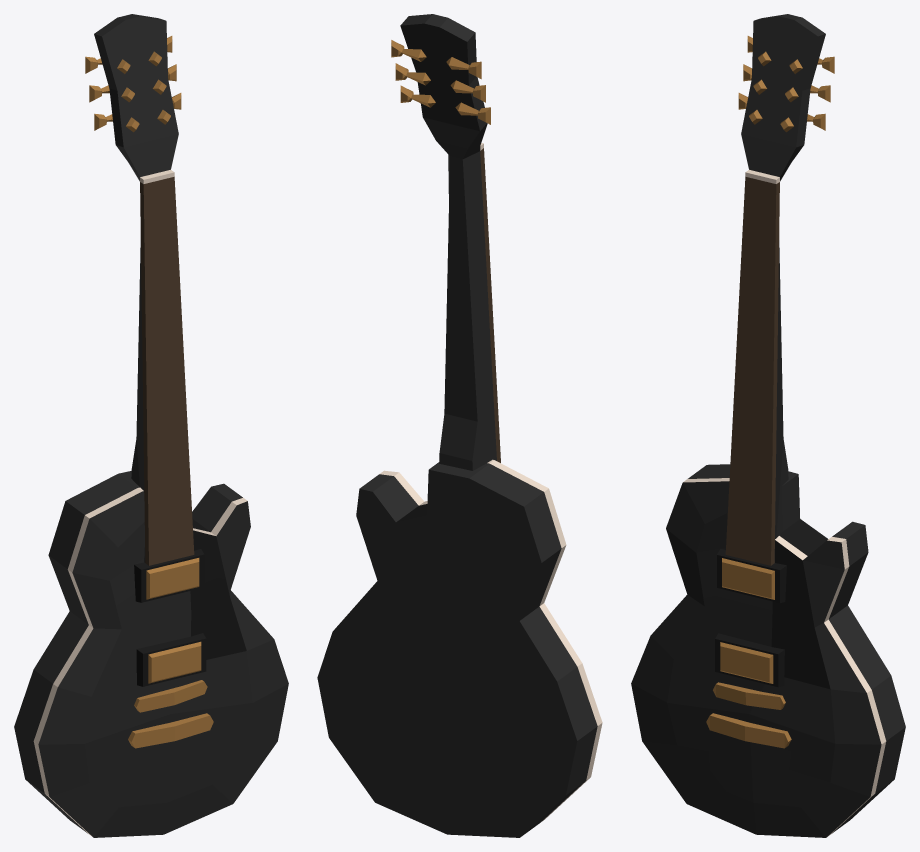
The model's file is music_guitar-electric-rock.fbx.
The picture shows the model from 3 angles, left to right: view 1: azimuth 30°, elevation 25°; view 2: azimuth 150°, elevation 25°; view 3: azimuth 330°, elevation 25°; orthographic projection. The views are drawn at different scales.
Visible parts, largest first — view 1: music_guitar_electric_rock; view 2: music_guitar_electric_rock; view 3: music_guitar_electric_rock.
Part boxes in pixels (x1,y1,x2,y2): music_guitar_electric_rock: (14, 14, 288, 837); music_guitar_electric_rock: (317, 14, 602, 837); music_guitar_electric_rock: (631, 14, 905, 837).
Size of the model in its own units: 66.04 by 200 by 23.29.
